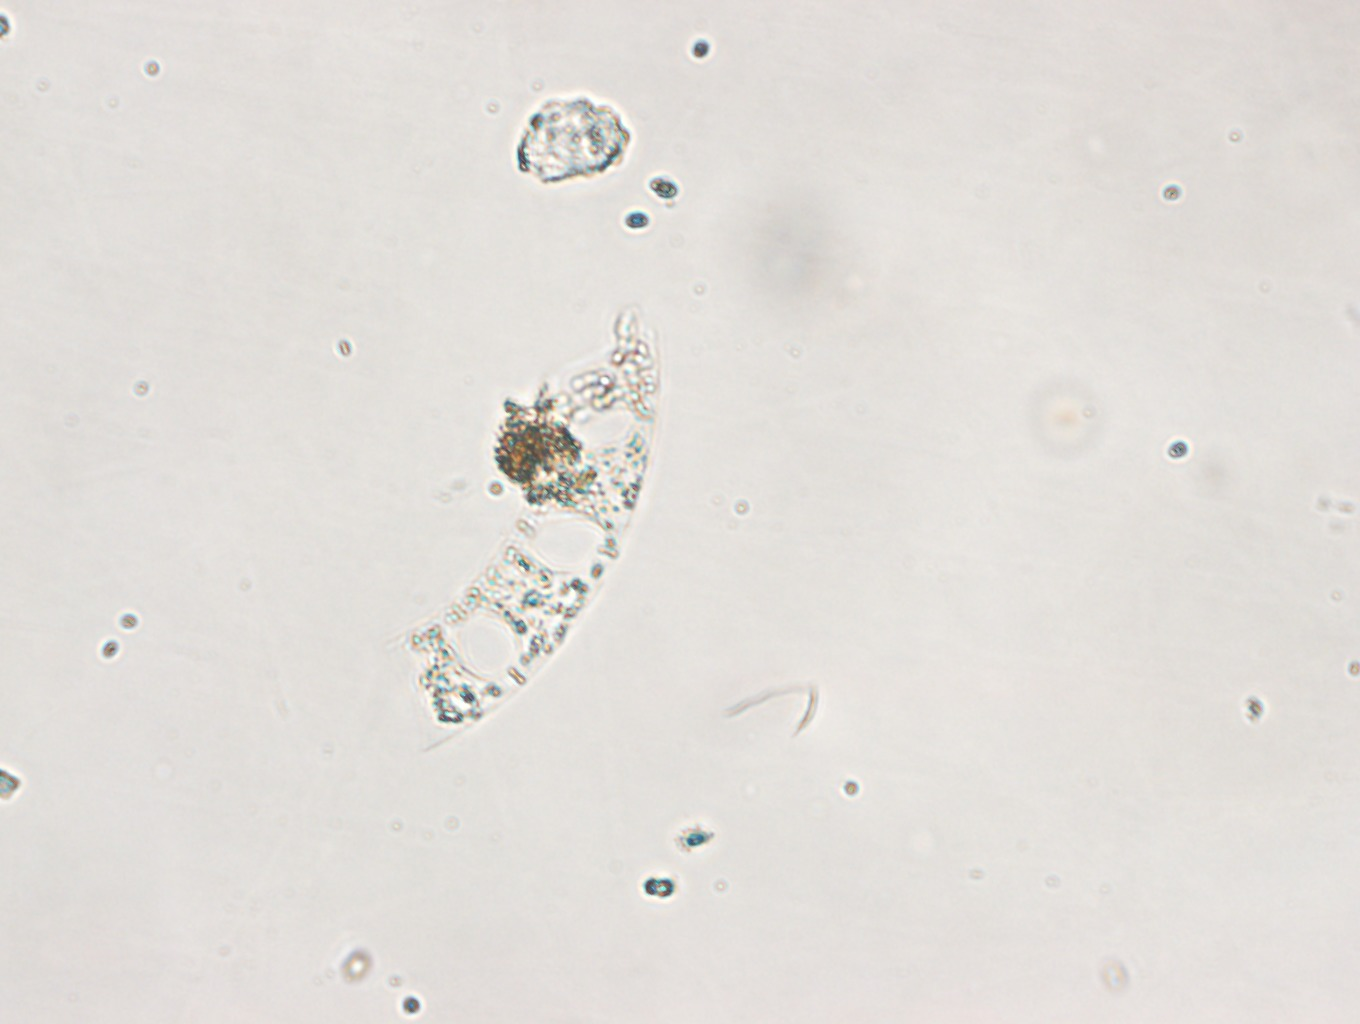eucampia: (393, 322, 658, 746)
